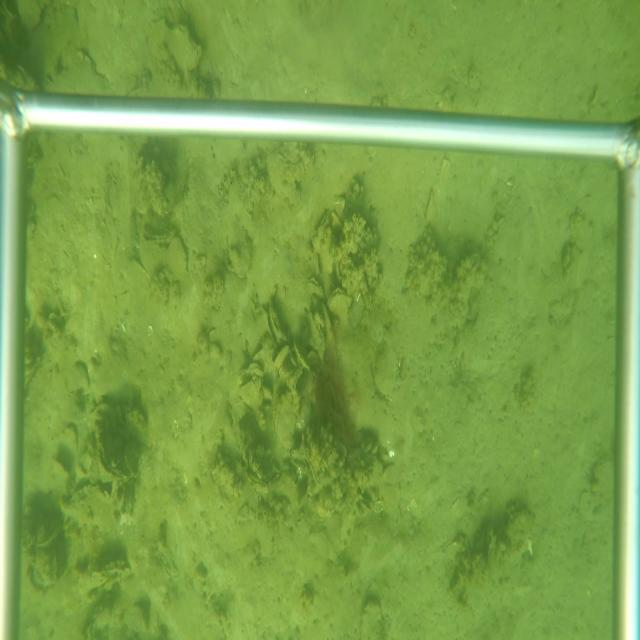Oyster-Closed: (155, 18, 203, 70), (271, 390, 299, 451), (265, 295, 290, 342), (324, 285, 352, 315), (169, 235, 189, 276), (308, 311, 324, 351), (304, 277, 326, 299), (236, 427, 248, 466), (292, 366, 303, 390)
Oyster-Indeterminate: (228, 216, 253, 283)
Oyster-Open: (142, 226, 173, 245)
